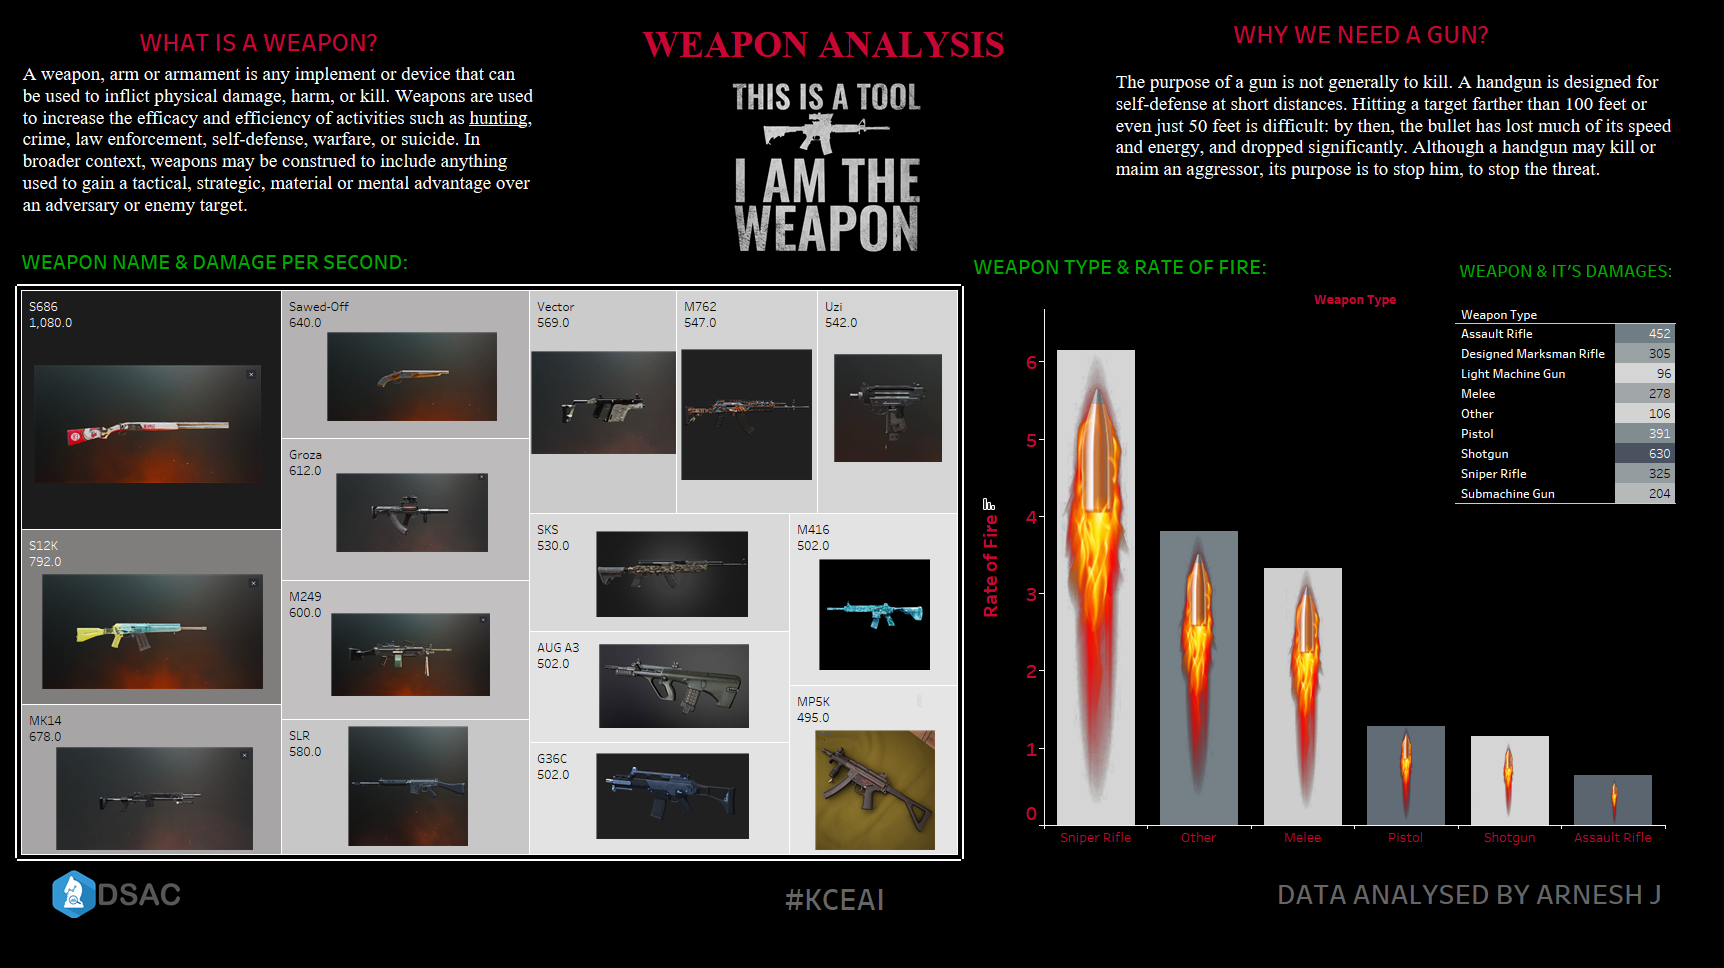

Layout of this report page (visuals, bound fields, positions):
{"tool":"tableau","page":{"name":"Dashboard 1","canvas":[1724,968],"ordinal":0},"visuals":[{"type":"text","box":[136,12,275,58]},{"type":"text","box":[20,36,519,208]},{"type":"text","box":[1113,67,572,118]},{"type":"image","param":"Image/TOOLS.png","box":[726,77,199,186]},{"type":"worksheet","title":"Sheet 3","mark":"Square","rows":["Weapon Type"],"box":[1455,240,226,264]},{"type":"worksheet","title":"Sheet 1","mark":"Automatic","box":[15,241,949,625]},{"type":"worksheet","title":"Sheet 2","mark":"Automatic","rows":["Rate of Fire"],"cols":["Weapon Type"],"box":[969,246,696,619]},{"type":"image","param":"Image/sawed-off.jpg","box":[327,332,221,89]},{"type":"image","param":"Image/1.png","box":[917,341,370,464]},{"type":"image","param":"Image/S686.jpg","box":[34,342,227,165]},{"type":"image","param":"Image/M762.jpg","box":[681,349,131,156]},{"type":"image","param":"Image/Vector.jpg","box":[531,351,145,118]},{"type":"image","param":"Image/UZI.jpg","box":[834,354,127,108]},{"type":"image","param":"Image/groza.jpg","box":[336,473,161,79]},{"type":"image","param":"Image/1.png","box":[1093,526,216,429]},{"type":"image","param":"Image/SKS.jpeg","box":[596,531,195,86]},{"type":"image","param":"Image/M416.jpg","box":[819,559,119,111]},{"type":"image","param":"Image/S12K.jpg","box":[42,574,221,131]},{"type":"image","param":"Image/m249.jpg","box":[331,613,184,83]},{"type":"image","param":"Image/AUG.jpg","box":[599,644,200,84]},{"type":"image","param":"Image/1.png","box":[1368,723,78,117]},{"type":"image","param":"Image/slr.jpg","box":[348,726,133,120]},{"type":"image","param":"Image/MP5K.jpg","box":[815,730,222,120]},{"type":"image","param":"Image/1.png","box":[1478,740,62,87]},{"type":"image","param":"Image/mk-14.jpg","box":[56,747,227,103]},{"type":"image","param":"Image/G36C.jpg","box":[596,753,153,94]},{"type":"image","param":"Image/1.png","box":[1596,777,39,47]},{"type":"text","box":[1274,863,390,60]},{"type":"text","box":[781,866,108,64]},{"type":"image","param":"Image/DSAC.png","box":[52,870,149,48]}]}

Visuals, with their boxes in screenshot pixels (x1, y1, x2, y2), scaled from the page's 1724x968 canvas onto the 1724x968 screenshot:
text: detection(136, 12, 411, 70)
text: detection(20, 36, 539, 244)
text: detection(1113, 67, 1685, 185)
image: detection(726, 77, 925, 263)
"Sheet 3" worksheet (Square marks): detection(1455, 240, 1681, 504)
"Sheet 1" worksheet: detection(15, 241, 964, 866)
"Sheet 2" worksheet: detection(969, 246, 1665, 865)
image: detection(327, 332, 548, 421)
image: detection(917, 341, 1287, 805)
image: detection(34, 342, 261, 507)
image: detection(681, 349, 812, 505)
image: detection(531, 351, 676, 469)
image: detection(834, 354, 961, 462)
image: detection(336, 473, 497, 552)
image: detection(1093, 526, 1309, 955)
image: detection(596, 531, 791, 617)
image: detection(819, 559, 938, 670)
image: detection(42, 574, 263, 705)
image: detection(331, 613, 515, 696)
image: detection(599, 644, 799, 728)
image: detection(1368, 723, 1446, 840)
image: detection(348, 726, 481, 846)
image: detection(815, 730, 1037, 850)
image: detection(1478, 740, 1540, 827)
image: detection(56, 747, 283, 850)
image: detection(596, 753, 749, 847)
image: detection(1596, 777, 1635, 824)
text: detection(1274, 863, 1664, 923)
text: detection(781, 866, 889, 930)
image: detection(52, 870, 201, 918)
